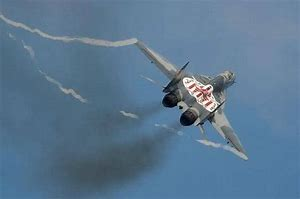smoke: (72, 102, 164, 184)
